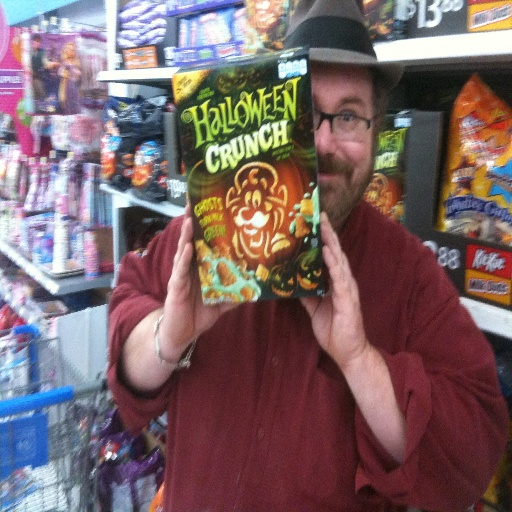hand: (311, 219, 388, 412), (163, 199, 244, 343)
